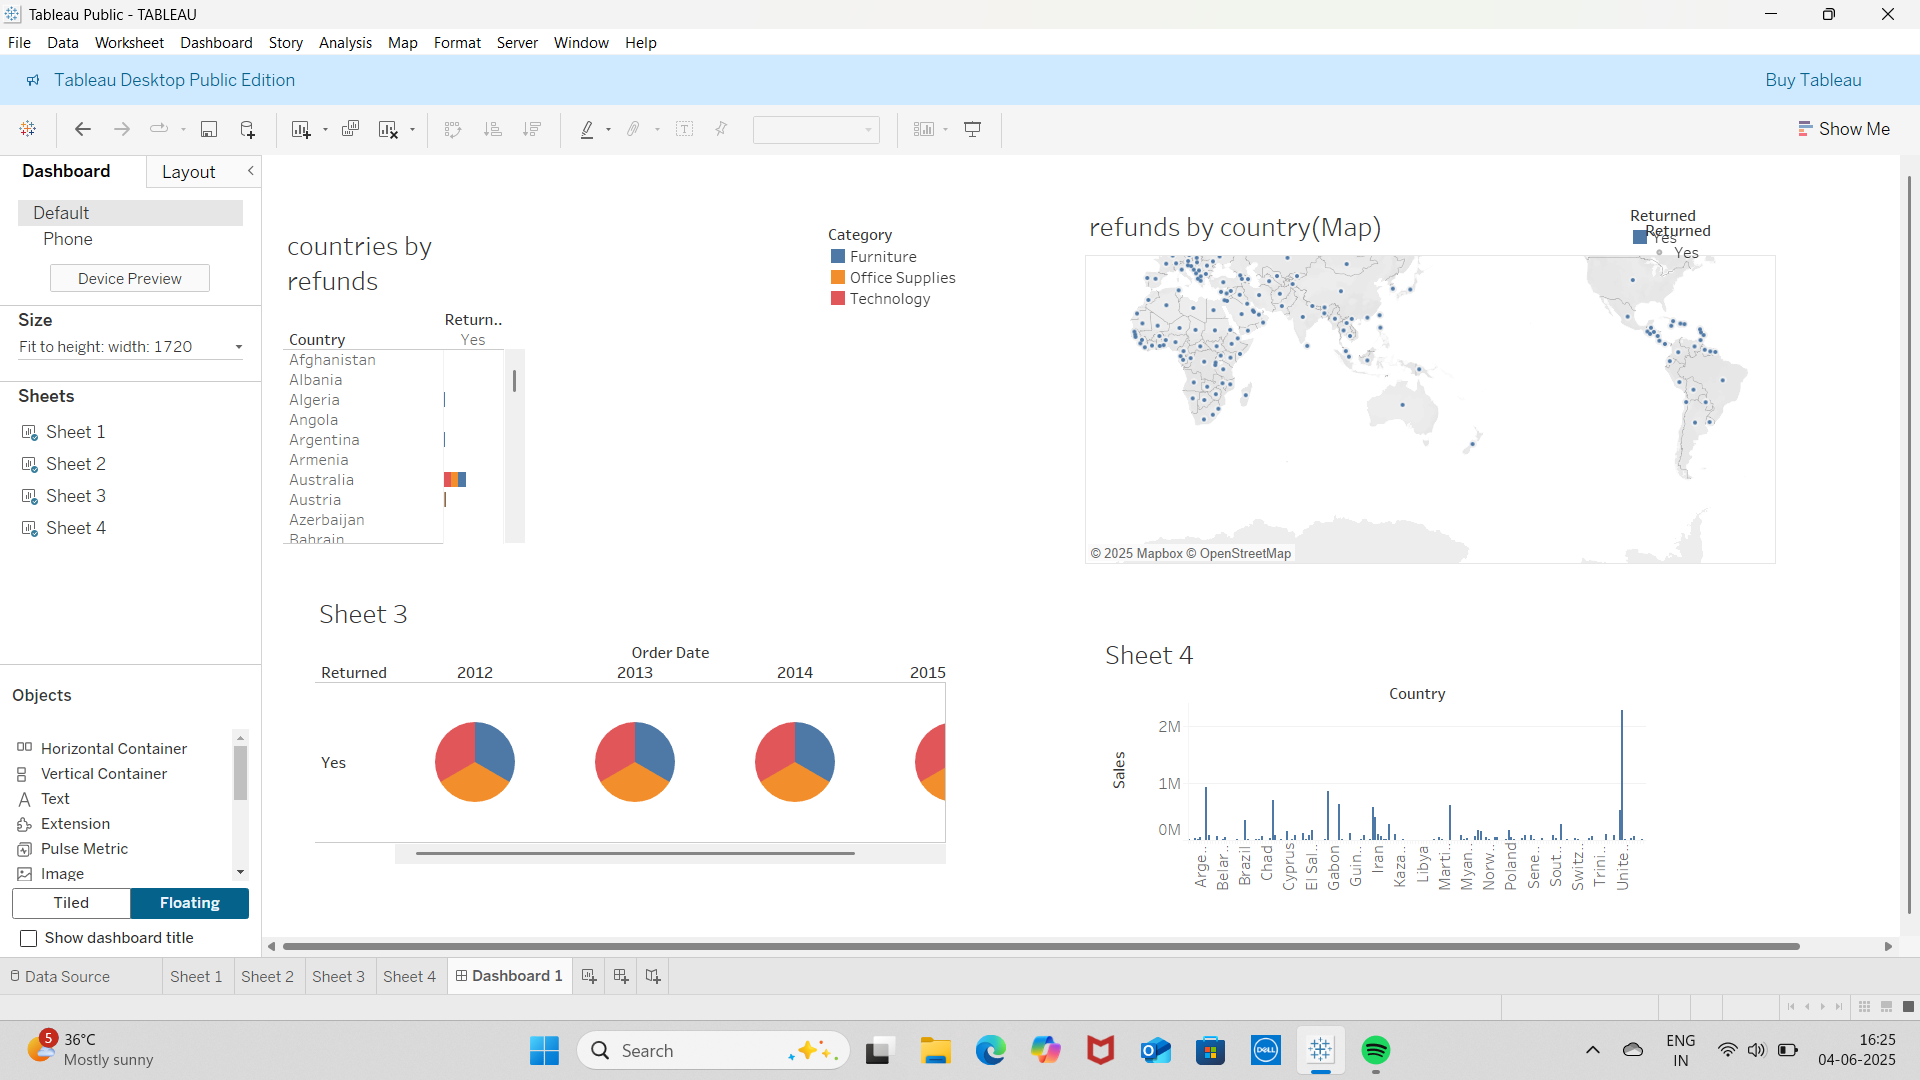

The page's visual inventory and layout, read from the dashboard file:
{"tool":"tableau","page":{"name":"Dashboard 1","canvas":[1000,1000],"units":"permille","ordinal":0},"visuals":[{"type":"worksheet","title":"Sheet 2","mark":"Automatic","box":[478.5,64,401.7,459.7]},{"type":"legend","title":"Sheet 2","param":"[federated.159bdcj0c029qu19dbmnp0go1wzh].[none:Returned:nk]","box":[795.4,64,81.4,55.1]},{"type":"legend","title":"Sheet 2","param":"[federated.159bdcj0c029qu19dbmnp0go1wzh].[none:Returned:nk]","box":[804.1,83.2,81.4,55.1]},{"type":"worksheet","title":"Sheet 1","mark":"Bar","rows":["Country"],"cols":["Returned"],"box":[12.2,88.4,397.1,409.7]},{"type":"legend","title":"Sheet 1","param":"[federated.159bdcj0c029qu19dbmnp0go1wzh].[none:Category:nk]","box":[329.1,88.4,81.4,108.8]},{"type":"worksheet","title":"Sheet 3","mark":"Pie","rows":["Returned"],"cols":["Order Date"],"box":[30.8,559.5,366.9,413.6]},{"type":"worksheet","title":"Sheet 4","mark":"Automatic","rows":["Sales"],"cols":["Country"],"box":[468.6,573.6,483.7,395.7]}]}

Visuals, with their boxes on the dashboard's canvas, which has no fixed pixel size, in thousandths of its width and height (x1, y1, x2, y2). These are canvas units, not pixel positions in the 1920x1080 screenshot, which may show the page scaled, cropped or inside an application window:
"Sheet 2" worksheet: pyautogui.locateOnScreen(478, 64, 880, 524)
"Sheet 2" legend: pyautogui.locateOnScreen(795, 64, 877, 119)
"Sheet 2" legend: pyautogui.locateOnScreen(804, 83, 886, 138)
"Sheet 1" worksheet (Bar marks): pyautogui.locateOnScreen(12, 88, 409, 498)
"Sheet 1" legend: pyautogui.locateOnScreen(329, 88, 410, 197)
"Sheet 3" worksheet (Pie marks): pyautogui.locateOnScreen(31, 560, 398, 973)
"Sheet 4" worksheet: pyautogui.locateOnScreen(469, 574, 952, 969)
